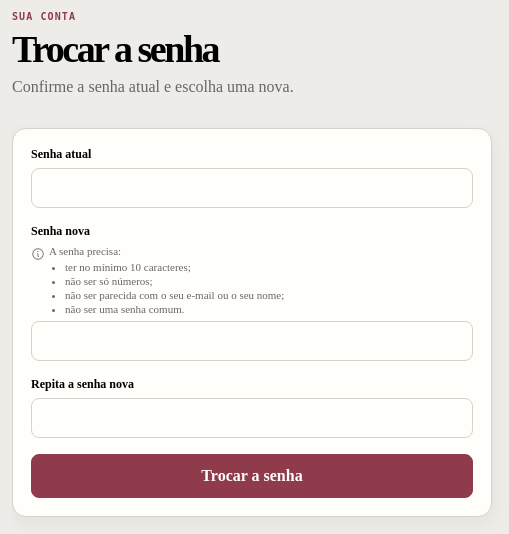
Test: o sucesso da voluntária (RF-08) › 204 → reload (um auth/me novo), a frase das outras sessões e o foco no Continuar
Type "senha-atual-1" into the password field labelled "Senha atual" at x=252, y=188, box 31,168 -> 473,208
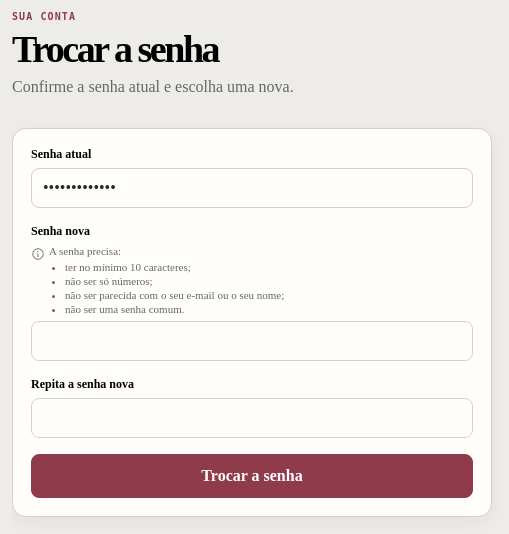
Type "nova-senha-longa-9" into the password field labelled "Senha nova" at x=252, y=341, box 31,321 -> 473,361
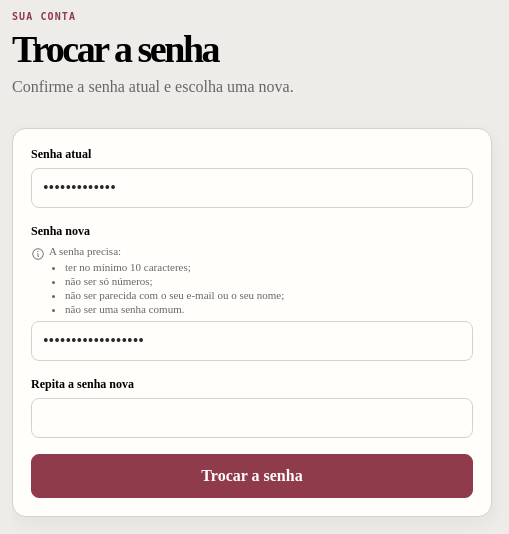
Type "nova-senha-longa-9" into the password field labelled "Repita a senha nova" at x=252, y=418, box 31,398 -> 473,438
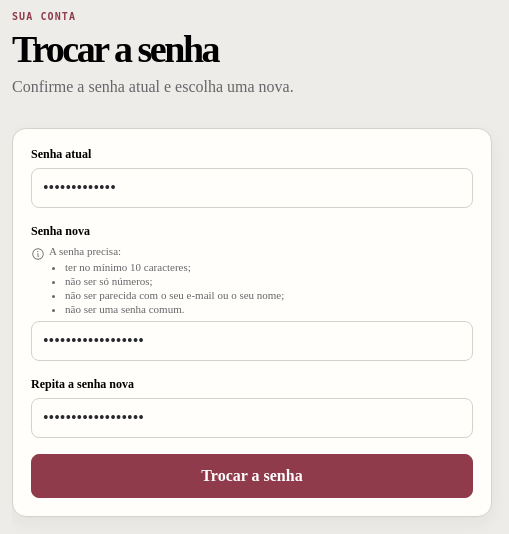
Click the button "Trocar a senha" at x=252, y=476, box 31,454 -> 473,498
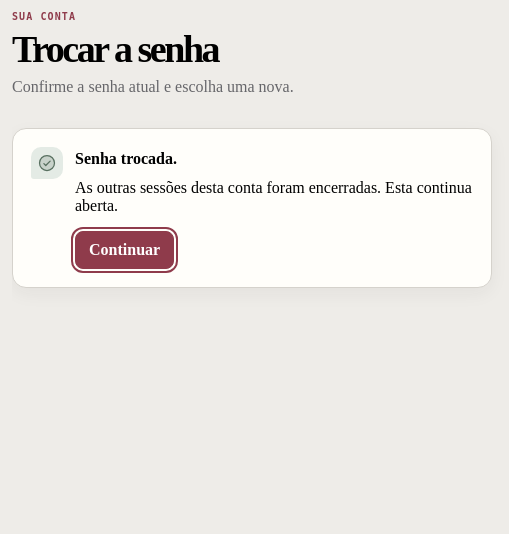
Result: the message shows "Senha trocada." at 75,150 -> 177,167
Result: the text "As outras sessões desta conta foram encerradas. Esta continua aberta." is shown at 75,178 -> 473,214
